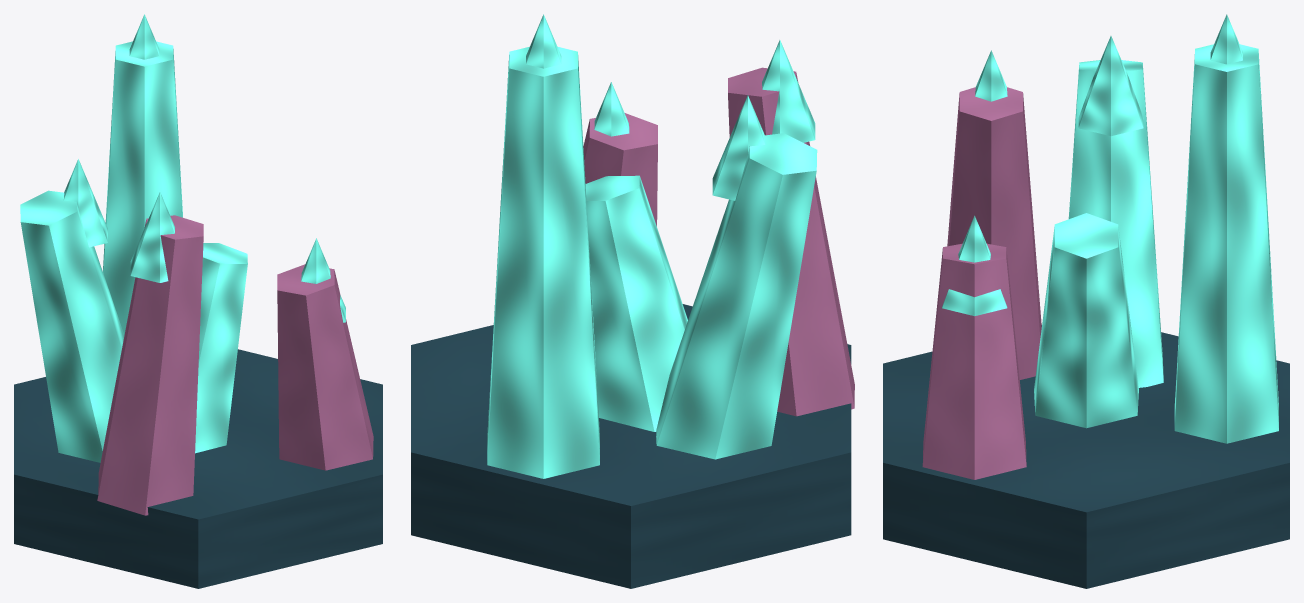
The model's file is atlas100-s062-a04.lod1.glb.
3 views of the same model, side by side, from view 1: azimuth 30°, elevation 25°; view 2: azimuth 150°, elevation 25°; view 3: azimuth 270°, elevation 25° (orthographic). The views are drawn at different scales.
Parts seen in each view (by area): view 1: atlas100-s062-a04:part-000, atlas100-s062-a04:part-003, atlas100-s062-a04:part-009, atlas100-s062-a04:part-007, atlas100-s062-a04:part-005, atlas100-s062-a04:part-001, atlas100-s062-a04:part-004, atlas100-s062-a04:part-010, atlas100-s062-a04:part-008, atlas100-s062-a04:part-006; view 2: atlas100-s062-a04:part-000, atlas100-s062-a04:part-005, atlas100-s062-a04:part-009, atlas100-s062-a04:part-001, atlas100-s062-a04:part-003, atlas100-s062-a04:part-007, atlas100-s062-a04:part-004, atlas100-s062-a04:part-010, atlas100-s062-a04:part-008, atlas100-s062-a04:part-006; view 3: atlas100-s062-a04:part-000, atlas100-s062-a04:part-005, atlas100-s062-a04:part-007, atlas100-s062-a04:part-001, atlas100-s062-a04:part-003, atlas100-s062-a04:part-009, atlas100-s062-a04:part-010, atlas100-s062-a04:part-008, atlas100-s062-a04:part-004, atlas100-s062-a04:part-006.
Part boxes in pixels (x1,y1,x2,y2): atlas100-s062-a04:part-000: (14,349,382,588); atlas100-s062-a04:part-003: (97,215,203,515); atlas100-s062-a04:part-009: (20,190,124,462); atlas100-s062-a04:part-007: (277,264,373,470); atlas100-s062-a04:part-005: (103,41,182,334); atlas100-s062-a04:part-001: (195,243,247,453); atlas100-s062-a04:part-004: (130,192,174,282); atlas100-s062-a04:part-010: (63,159,107,247); atlas100-s062-a04:part-008: (301,238,345,322); atlas100-s062-a04:part-006: (129,14,159,59); atlas100-s062-a04:part-000: (411,304,851,588); atlas100-s062-a04:part-005: (487,47,599,478); atlas100-s062-a04:part-009: (656,133,817,459); atlas100-s062-a04:part-001: (585,175,687,431); atlas100-s062-a04:part-003: (728,67,854,416); atlas100-s062-a04:part-007: (583,113,657,226); atlas100-s062-a04:part-004: (762,40,815,142); atlas100-s062-a04:part-010: (712,95,765,200); atlas100-s062-a04:part-008: (594,82,629,136); atlas100-s062-a04:part-006: (526,14,561,68); atlas100-s062-a04:part-000: (883,325,1289,588); atlas100-s062-a04:part-005: (1174,44,1278,443); atlas100-s062-a04:part-007: (922,243,1026,479); atlas100-s062-a04:part-001: (1034,213,1138,428); atlas100-s062-a04:part-003: (947,87,1041,379); atlas100-s062-a04:part-009: (1068,60,1163,387); atlas100-s062-a04:part-010: (1078,36,1143,136); atlas100-s062-a04:part-008: (942,215,1007,316); atlas100-s062-a04:part-004: (975,50,1007,101); atlas100-s062-a04:part-006: (1210,14,1242,64).
Bounding box in the file's own units: 1.07 × 1.21 × 0.9258.
Materials: 3 (3 with a texture image).
